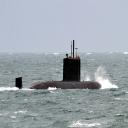submarine: (16, 40, 104, 90)
